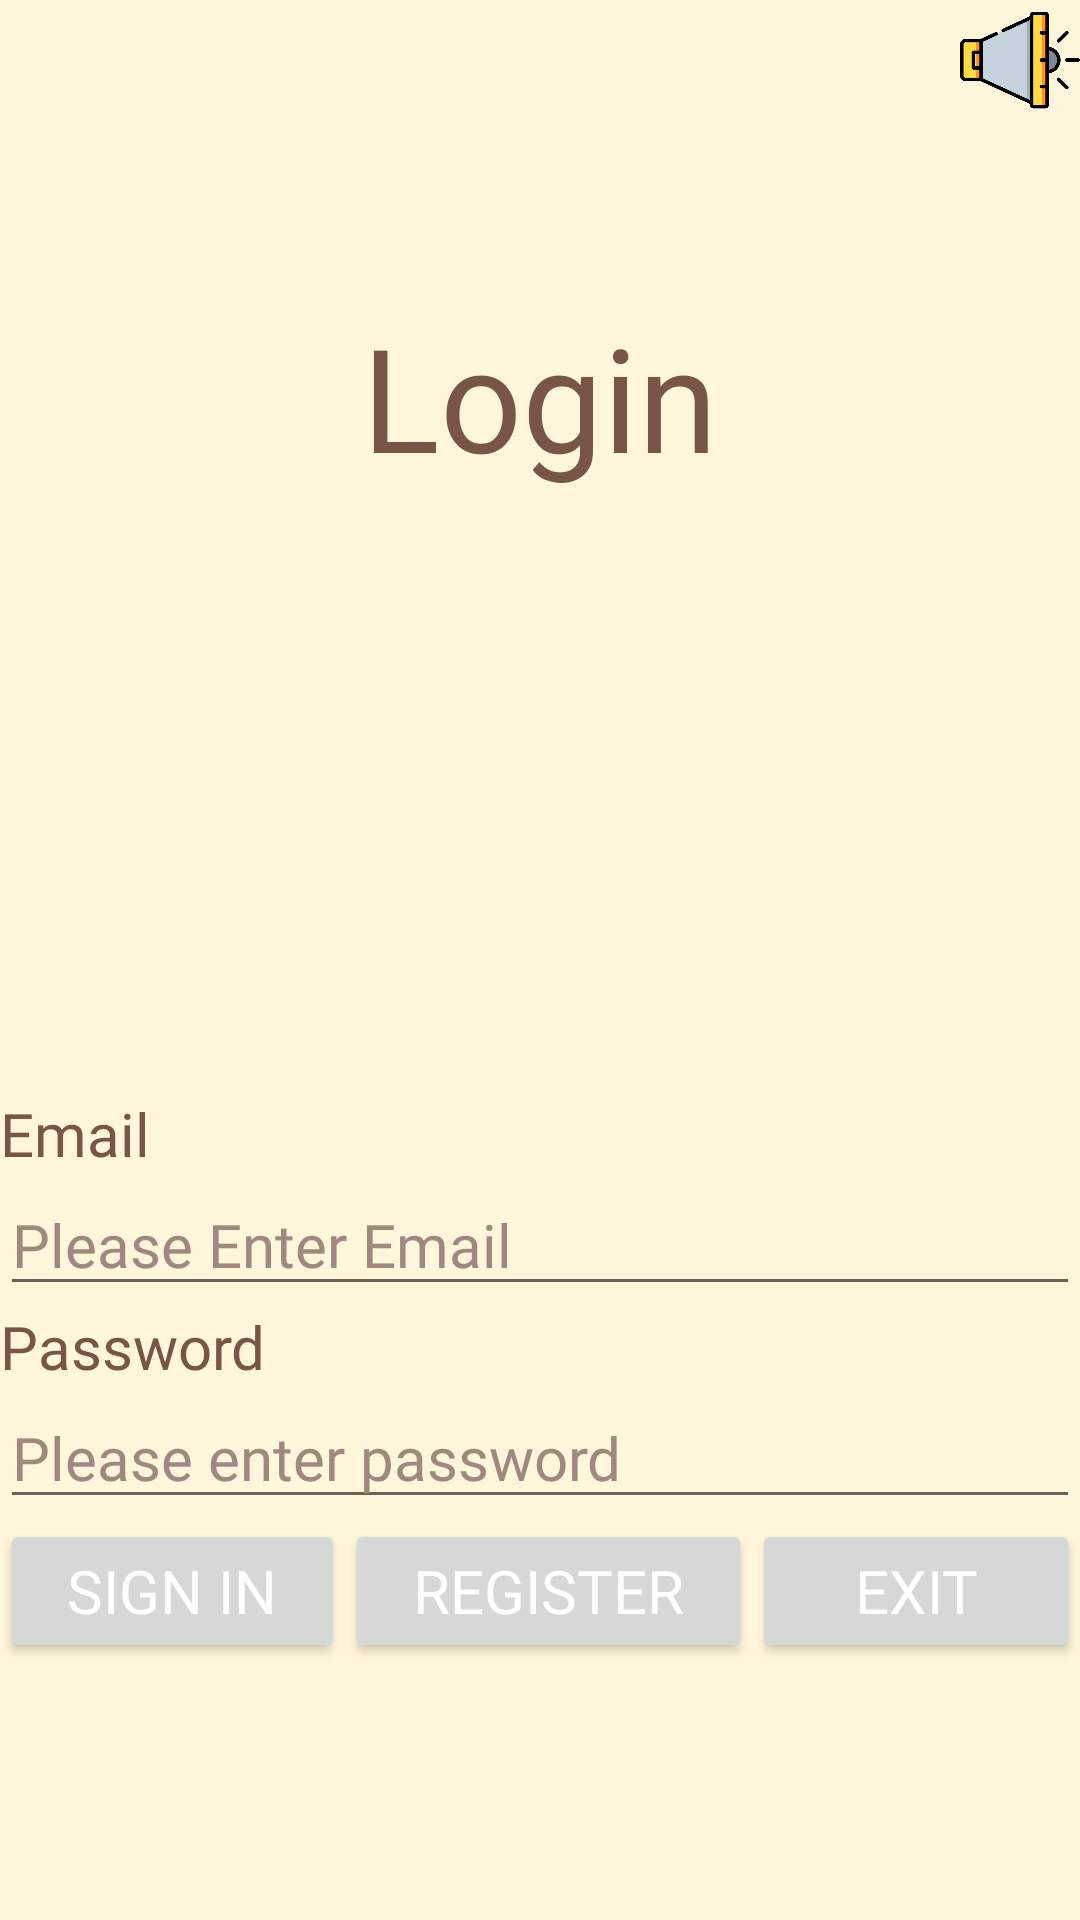

Where icons sit on this 1080x1920 app screen, as (left=x1, top=y1, right=x2, bottom=y2):
Stop Music Play: (left=960, top=12, right=1080, bottom=109)
